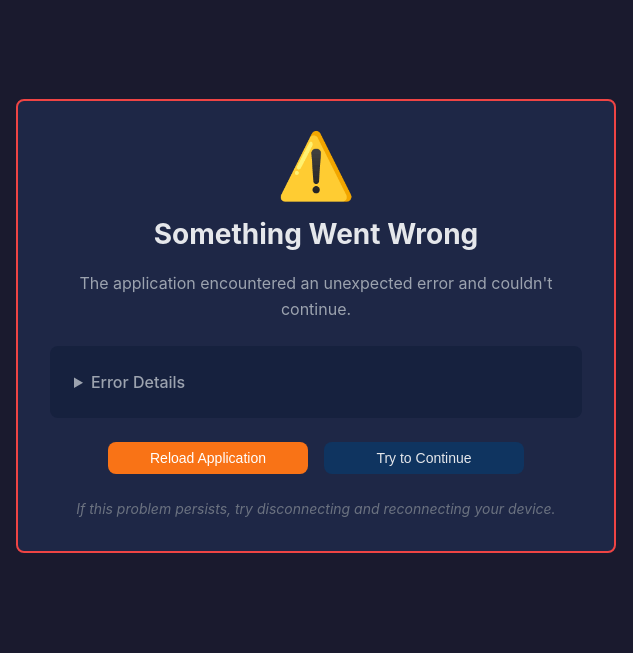
Test: ErrorBoundary › displays error details in expandable section
Note: Click to expand details
Click the heading "Error Details". click: coordinates (138, 382)
box: top-left (91, 372), bottom-right (185, 392)
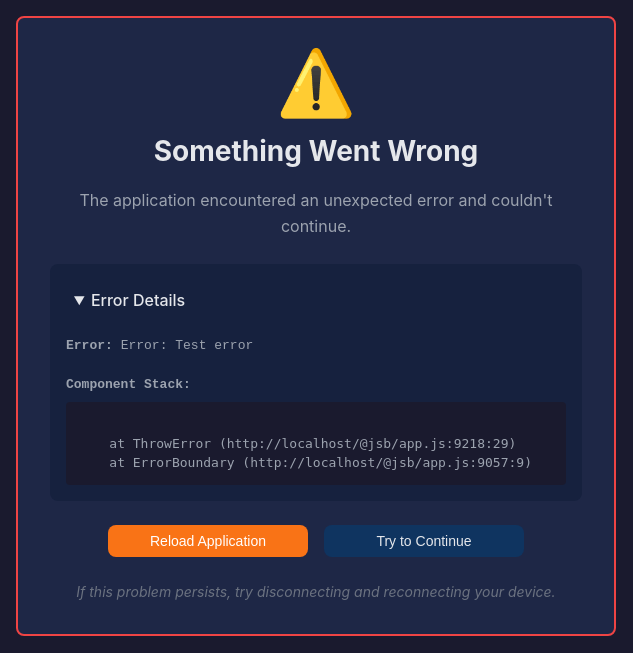
expect the text "Test error" is shown: met, box top-left (121, 338), bottom-right (253, 353)
